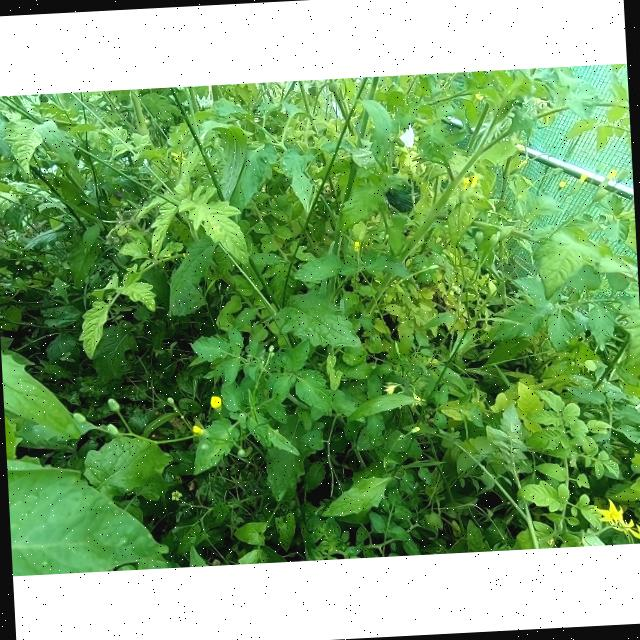Flowers: (592, 496, 634, 532), (459, 175, 478, 195), (408, 387, 424, 407), (192, 425, 212, 438), (380, 382, 399, 395), (210, 395, 222, 414), (631, 521, 640, 544), (604, 168, 618, 182), (168, 490, 184, 502), (554, 180, 568, 193), (578, 173, 588, 187)
